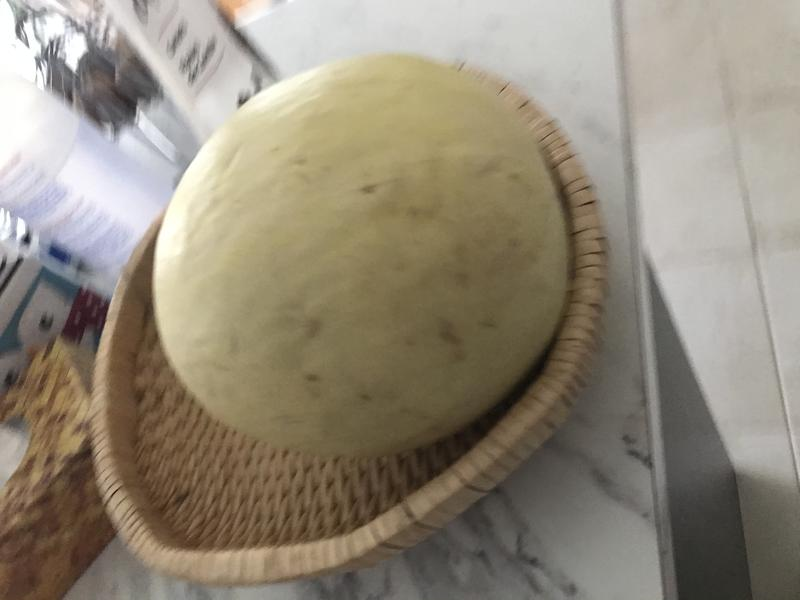honeydew: (136, 46, 592, 479)
